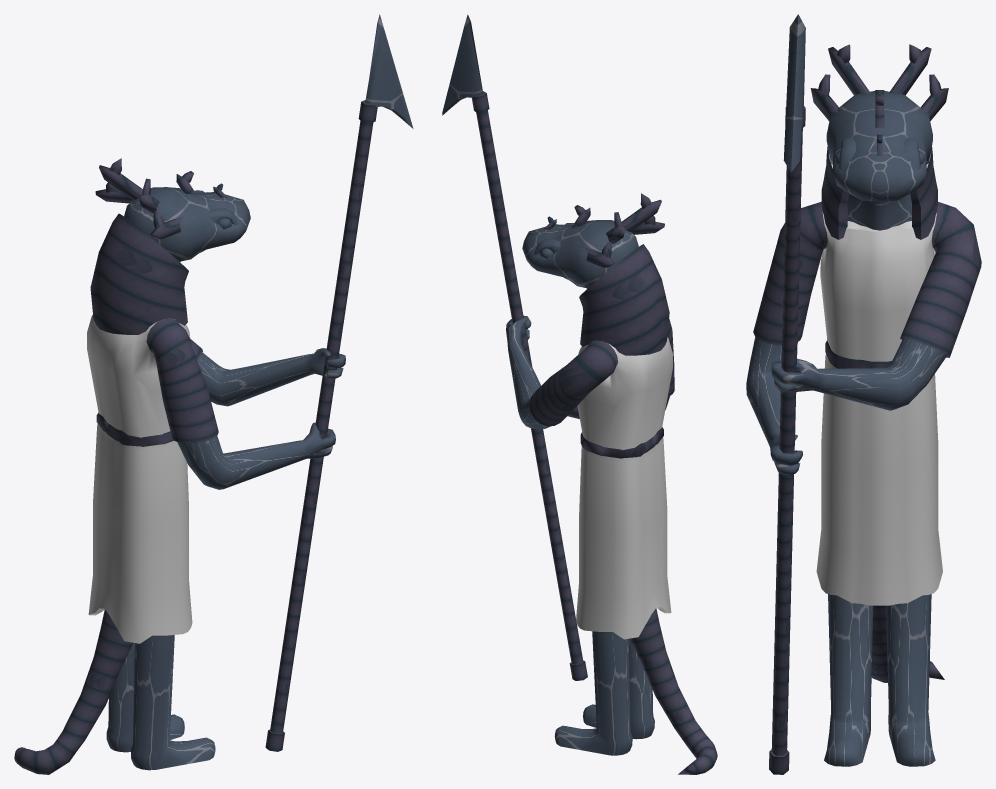
Rendered from ST Lem Statue 2.fbx.
3 renders of one model, left to right at view 1: azimuth 30°, elevation 25°; view 2: azimuth 150°, elevation 25°; view 3: azimuth 270°, elevation 25°, orthographic. The views are drawn at different scales.
Visible parts, largest first — view 1: LemStatue2_LOD0; view 2: LemStatue2_LOD0; view 3: LemStatue2_LOD0.
Boxes of the visible parts, x1,y1,x2,y2 form: LemStatue2_LOD0: [14, 14, 413, 774]; LemStatue2_LOD0: [442, 14, 717, 774]; LemStatue2_LOD0: [746, 14, 981, 774].
Size of what is drawn, in the model's own units: 1563 by 3096 by 789.
